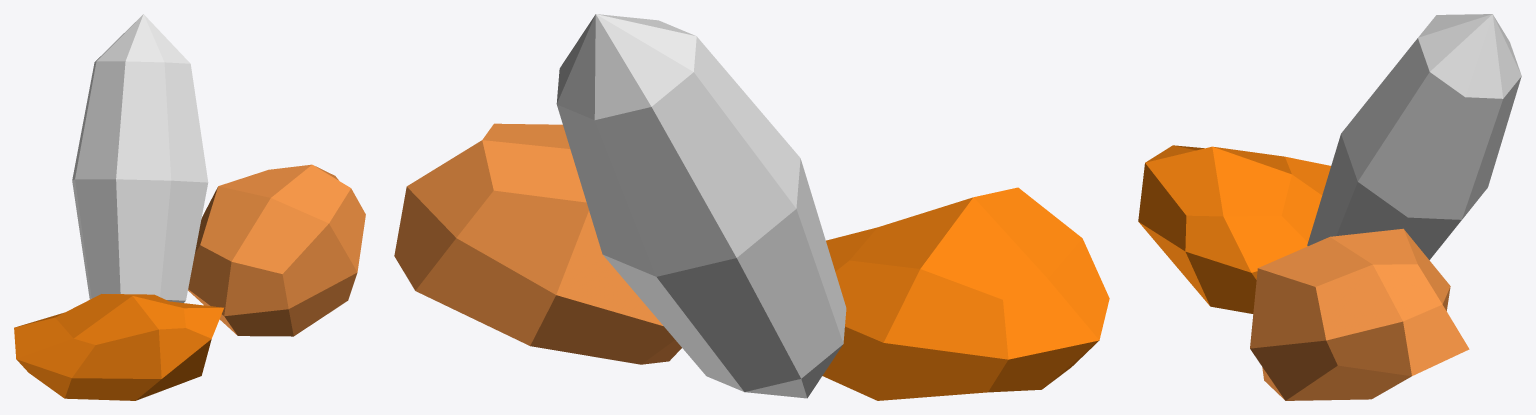
The model's file is ore.fbx.
3 renders of one model, left to right at view 1: azimuth 30°, elevation 25°; view 2: azimuth 150°, elevation 25°; view 3: azimuth 270°, elevation 25°, orthographic. The views are drawn at different scales.
Parts seen in each view (by area): view 1: amber.002; view 2: amber.002; view 3: amber.002.
Boxes of the visible parts, x1=… form: amber.002: x1=14, y1=14, x2=365, y2=400; amber.002: x1=394, y1=14, x2=1109, y2=400; amber.002: x1=1138, y1=14, x2=1521, y2=400.
Size of the model in its own units: 138 by 95.09 by 96.88.
